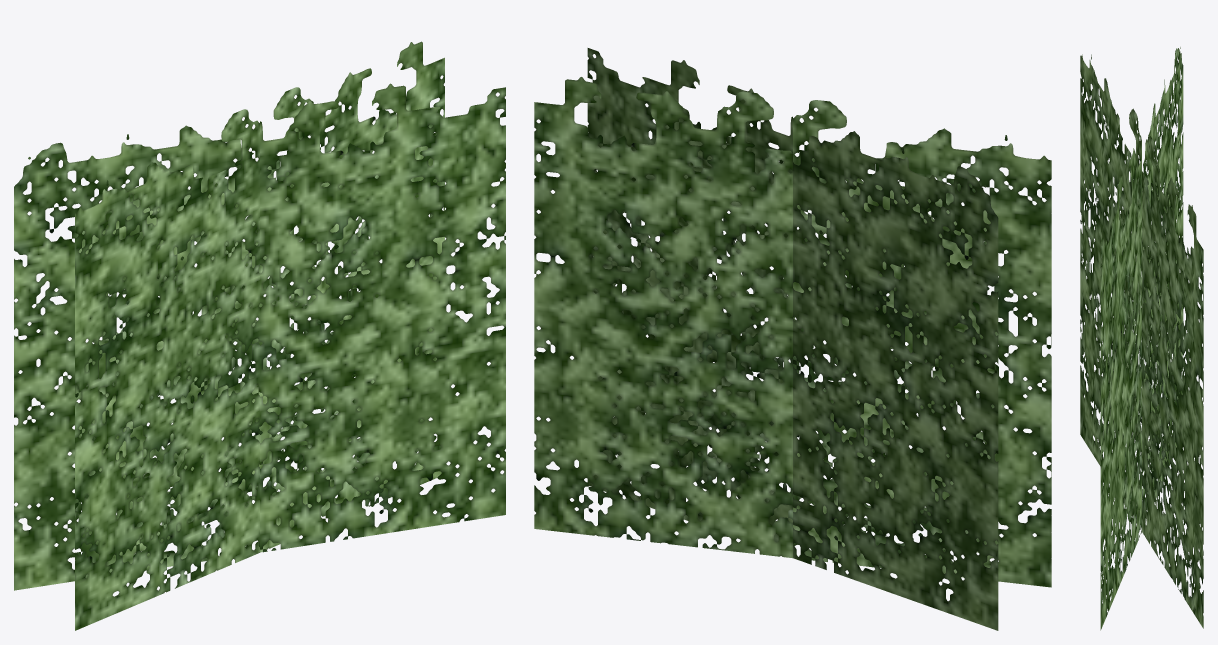
File: bush_tall_overgrown_summer.fbx
The picture shows the model from 3 angles, left to right: view 1: azimuth 30°, elevation 25°; view 2: azimuth 150°, elevation 25°; view 3: azimuth 270°, elevation 25°; orthographic projection. The views are drawn at different scales.
Visible parts, largest first — view 1: bush_tall_overgrown_summer; view 2: bush_tall_overgrown_summer; view 3: bush_tall_overgrown_summer.
Boxes of the visible parts, left/top/right/bottom form: bush_tall_overgrown_summer: left=14, top=41, right=505, bottom=630; bush_tall_overgrown_summer: left=534, top=48, right=1051, bottom=630; bush_tall_overgrown_summer: left=1080, top=47, right=1203, bottom=630.
Size of the model in its own units: 209 by 206 by 54.93.
Materials: 1 (1 with a texture image).
